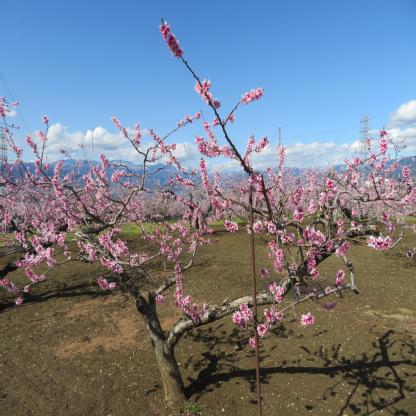Momo: (0, 15, 416, 348)
